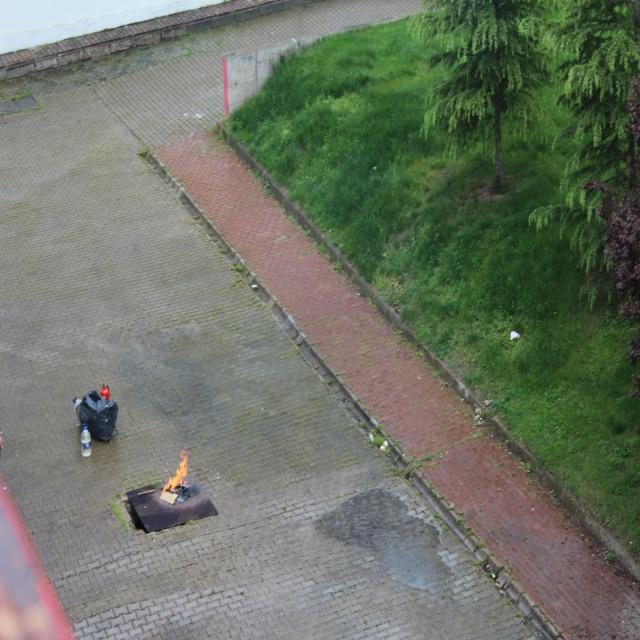fire: (148, 438, 205, 504)
